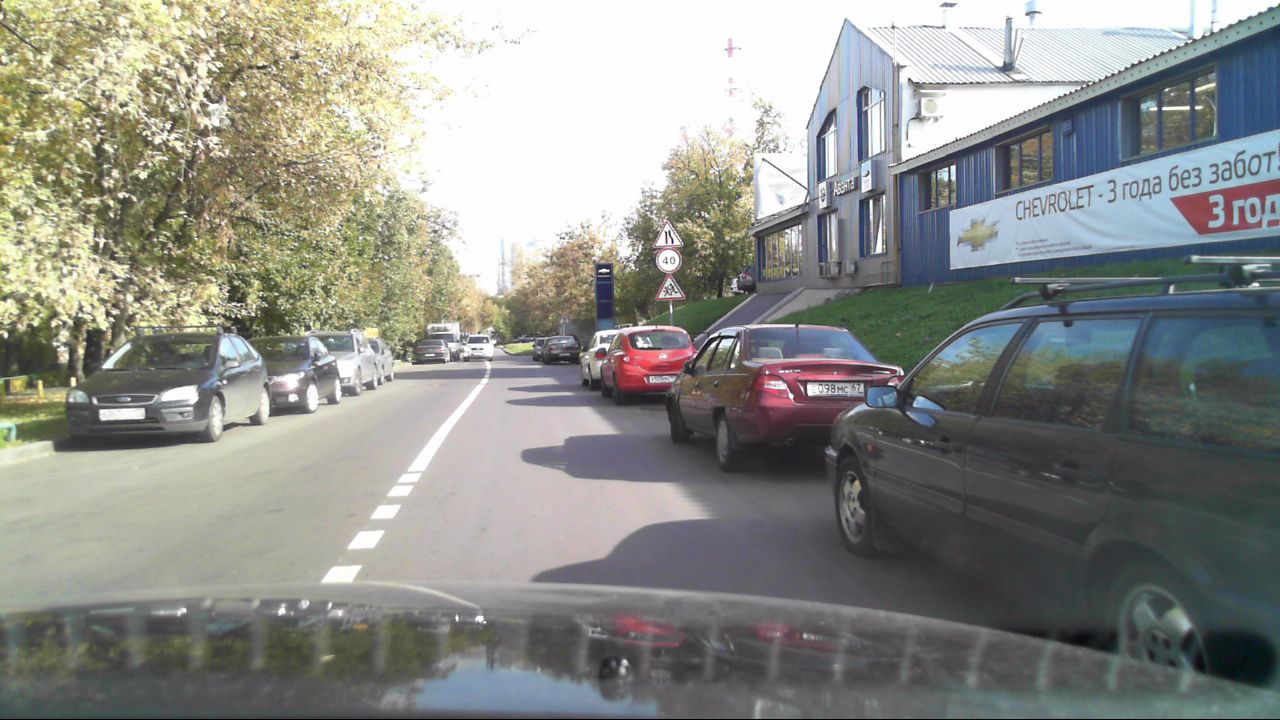speed_warning_40: (656, 247, 683, 274)
